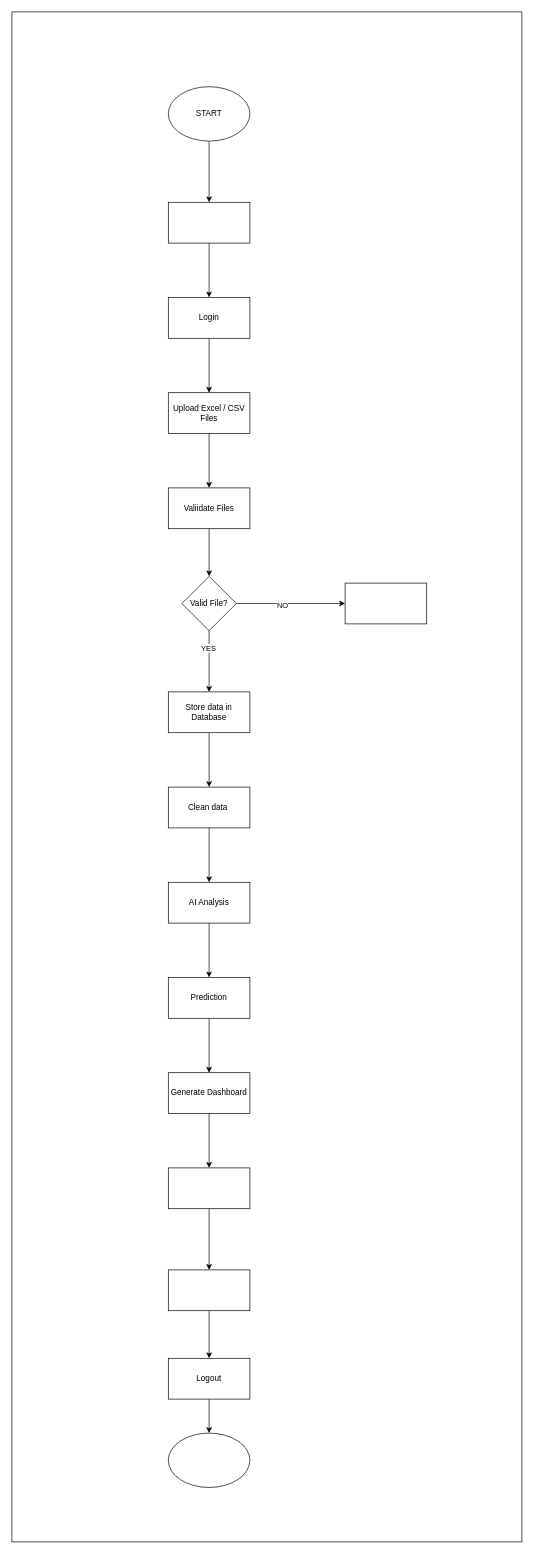
Image size: 534x1554. Some labels were removed from this diagram. The box of each missing label's shape, as (x1, y1, x2, y2) in pixels:
END: (168, 1432, 250, 1488)
Generate PDF Report: (168, 1167, 250, 1209)
Open CafeAnalyst Website: (168, 202, 250, 243)
Show Business Suggestions: (168, 1269, 250, 1311)
Show Error: (344, 582, 427, 624)
